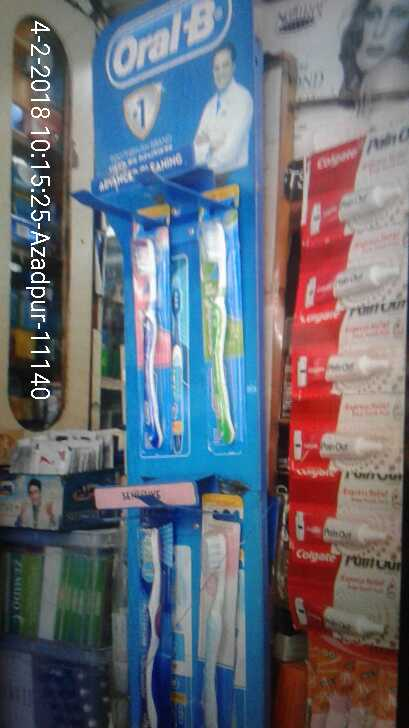oralb: (121, 229, 185, 453), (193, 208, 246, 452), (133, 523, 174, 728), (195, 528, 236, 728)
